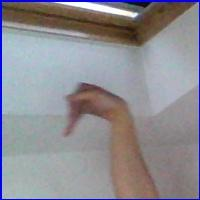del: (57, 78, 124, 146)
